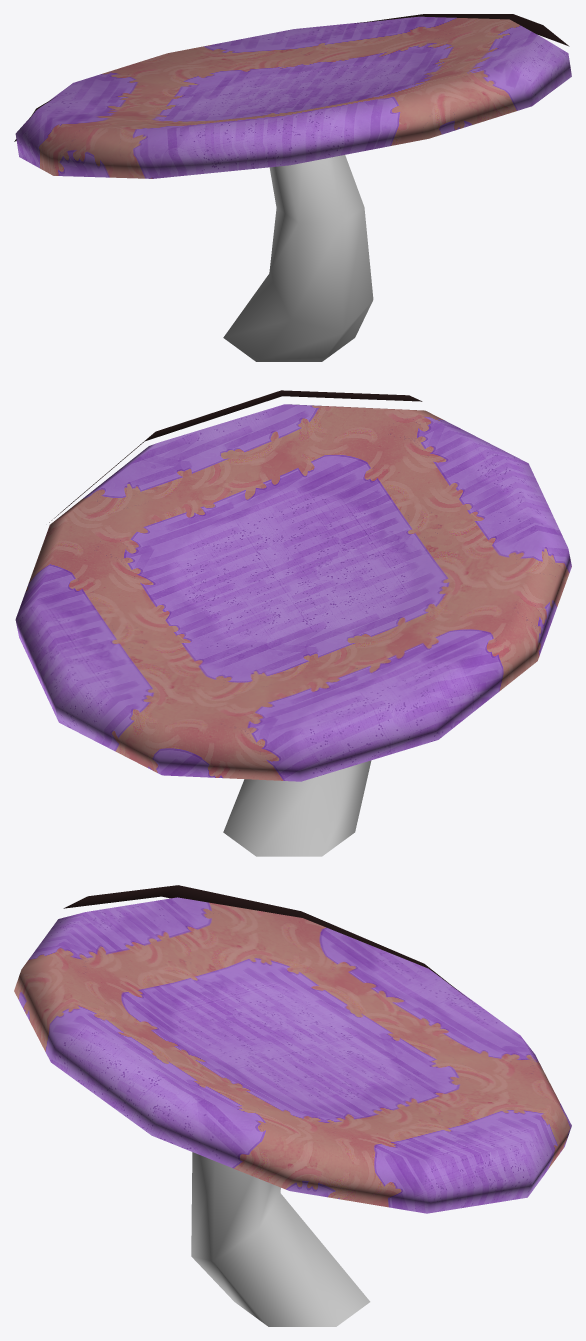
Rendered from Mushroom_01_Art.fbx.
The picture shows the model from 3 angles, top to bottom: view 1: azimuth 30°, elevation 25°; view 2: azimuth 150°, elevation 25°; view 3: azimuth 270°, elevation 25°; orthographic projection. The views are drawn at different scales.
Parts seen in each view (by area): view 1: Mushroom_01_Art; view 2: Mushroom_01_Art; view 3: Mushroom_01_Art.
Part boxes in pixels (x1,y1,x2,y2): Mushroom_01_Art: (14,14,571,361); Mushroom_01_Art: (15,390,571,856); Mushroom_01_Art: (14,885,571,1326).
Size of what is drawn, in the model's own units: 0.8177 by 0.5561 by 0.7802.
